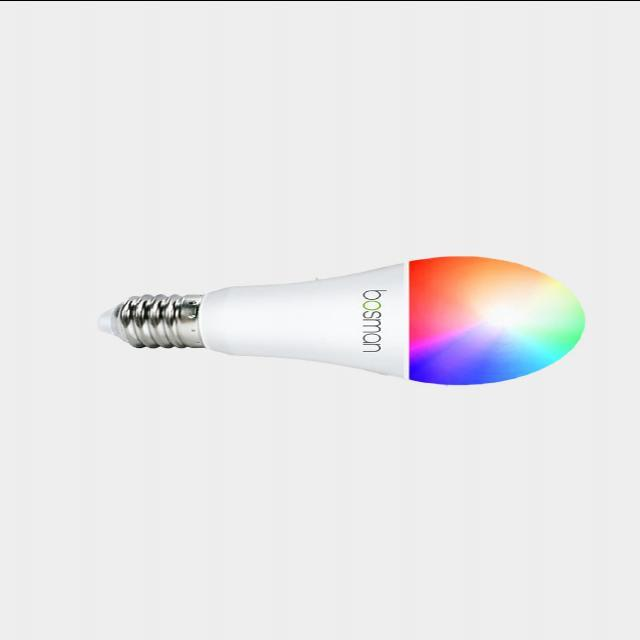light_bulb: (79, 242, 601, 390)
